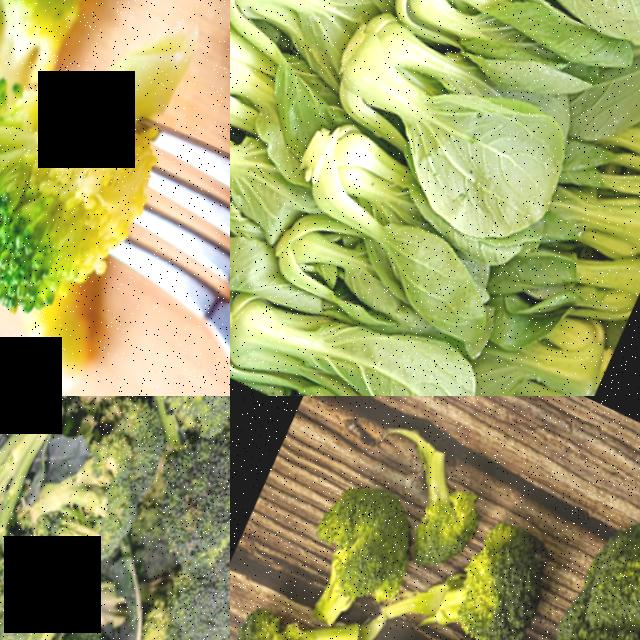bok choy: (315, 15, 581, 206), (278, 129, 529, 303), (230, 270, 472, 396), (386, 0, 640, 111), (230, 0, 343, 165), (520, 215, 640, 343), (230, 0, 377, 65), (494, 316, 607, 396), (559, 149, 640, 256), (230, 109, 286, 236), (626, 77, 640, 172)
broccoli: (0, 0, 230, 356), (459, 440, 640, 640), (272, 454, 437, 640), (34, 396, 181, 584), (404, 499, 595, 640), (127, 398, 230, 640), (0, 0, 115, 189), (0, 396, 70, 586), (230, 577, 351, 640), (406, 473, 485, 562), (9, 614, 130, 640)
